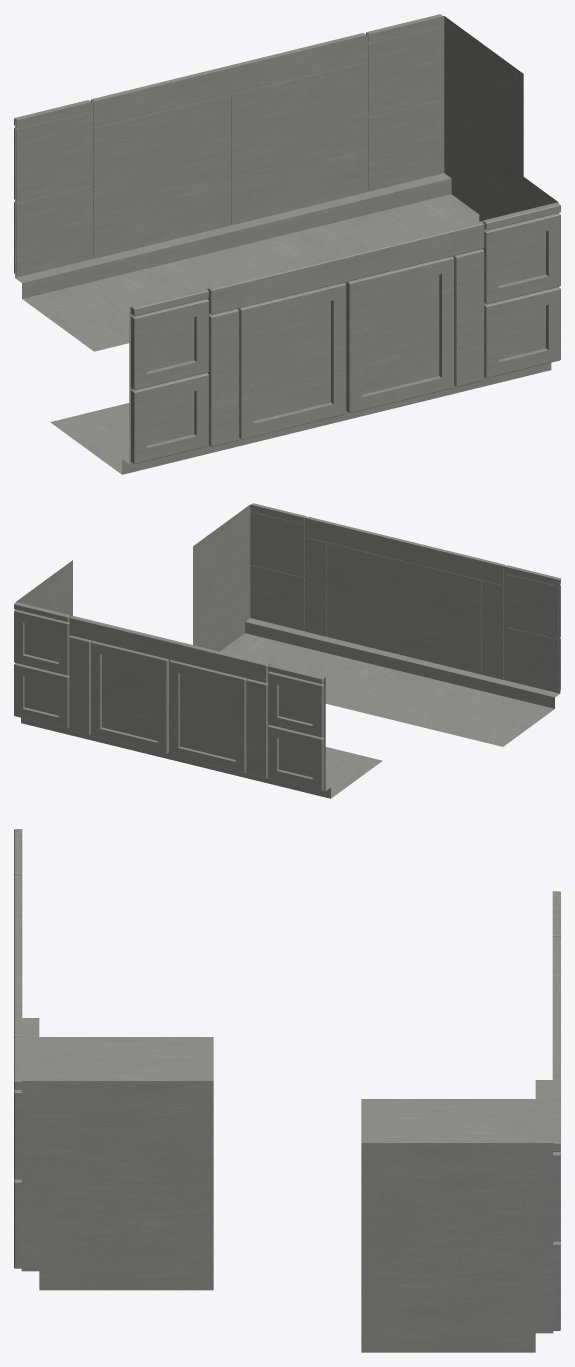
Rendered from 2345_Bathroom_Cabinets_Bolder.gltf.
The picture shows the model from 3 angles, top to bottom: view 1: azimuth 30°, elevation 25°; view 2: azimuth 150°, elevation 25°; view 3: azimuth 270°, elevation 25°; orthographic projection. The views are drawn at different scales.
Visible parts, largest first — view 1: Line23790; view 2: Line23790; view 3: Line23790.
Part boxes in pixels (x1,y1,x2,y2): Line23790: [14, 14, 560, 474]; Line23790: [14, 503, 560, 798]; Line23790: [14, 829, 560, 1352].
Bounding box in the file's own units: 3.56 × 1.1 × 2.6.
1 material, 1 textured.
